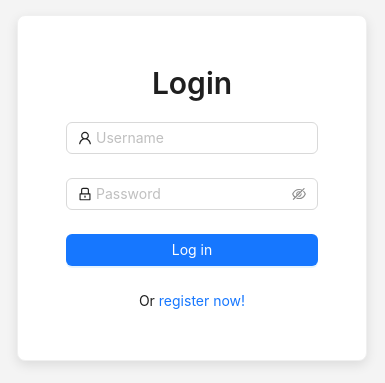
Test case: Login Page › shows error for empty form submission
Click the submit button. click: (192, 250)
box: [66,234,318,266]
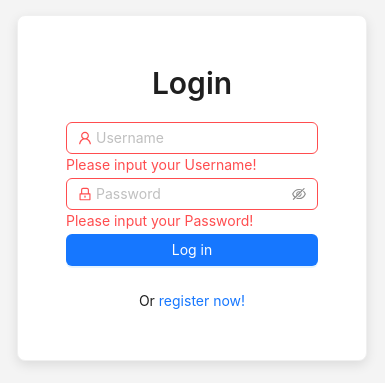
Now the text "Please input your Username!" is shown, box [66,156,256,173]
